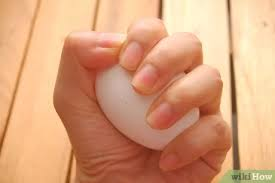egg: (94, 64, 200, 150)
